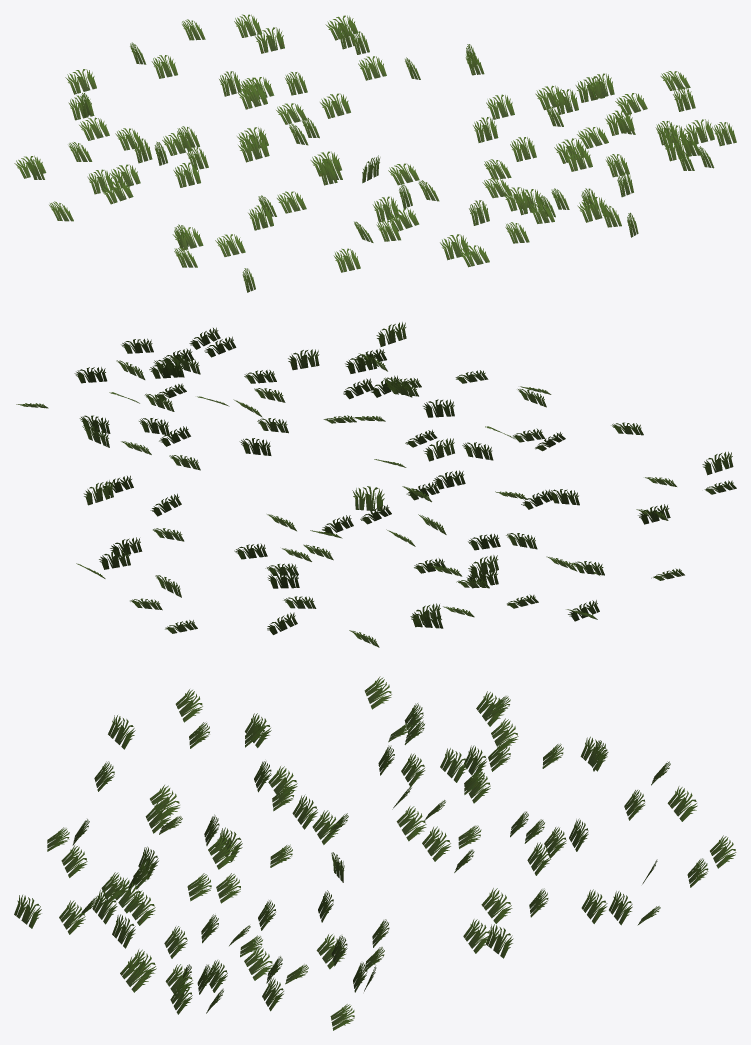
File: GrassField_low.fbx
The picture shows the model from 3 angles, top to bottom: view 1: azimuth 30°, elevation 25°; view 2: azimuth 150°, elevation 25°; view 3: azimuth 270°, elevation 25°; orthographic projection. The views are drawn at different scales.
Parts seen in each view (by area): view 1: Grass47, Grass50, Grass23, Grass44, Grass67, Grass03; view 2: Grass; view 3: no part large enough to name.
Part boxes in pixels (left/top/right/bottom): Grass47: left=255, top=27, right=284, bottom=53; Grass50: left=238, top=136, right=269, bottom=162; Grass23: left=320, top=93, right=350, bottom=118; Grass44: left=684, top=119, right=714, bottom=144; Grass67: left=65, top=69, right=96, bottom=94; Grass03: left=237, top=84, right=267, bottom=109; Grass: left=352, top=486, right=384, bottom=511.
Bounding box in the file's own units: 24.93 × 22.78 × 1.67.
1 material, 1 textured.
